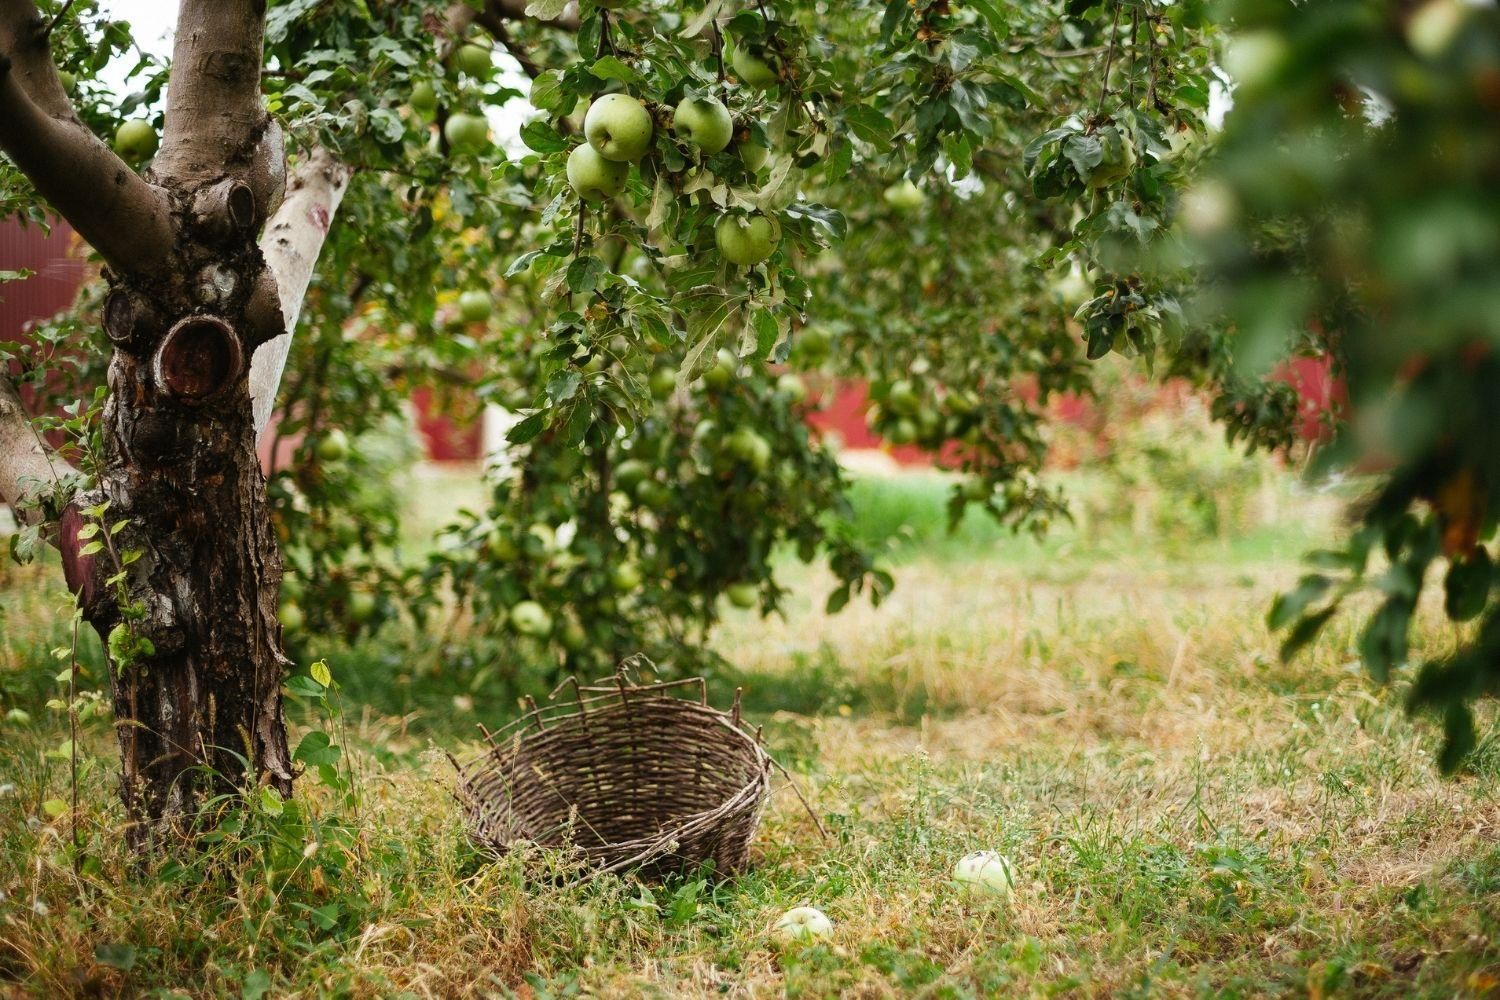apple: (585, 92, 653, 160), (712, 206, 779, 267), (564, 140, 628, 200), (671, 92, 732, 152)
